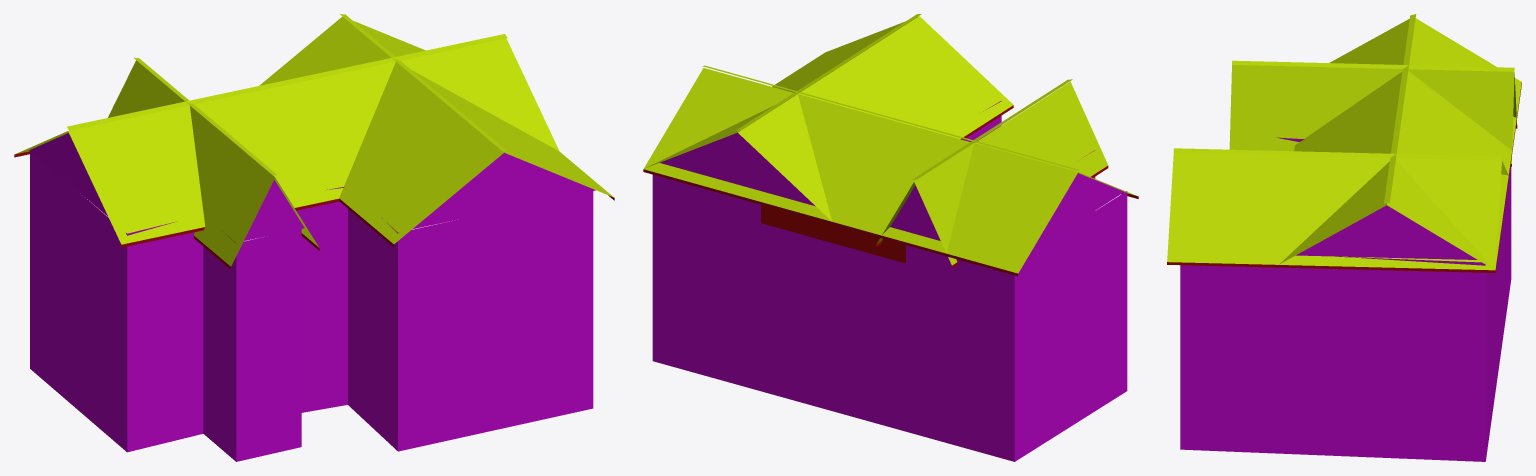
3 views of the same model, side by side, from view 1: azimuth 30°, elevation 25°; view 2: azimuth 150°, elevation 25°; view 3: azimuth 270°, elevation 25° (orthographic). The views are drawn at different scales.
Visible parts, largest first — view 1: sc_97; view 2: sc_97; view 3: sc_97.
Part boxes in pixels (x1,y1,x2,y2): sc_97: (14,14,614,461); sc_97: (643,14,1138,461); sc_97: (1167,14,1521,461).
Size of the model in its own units: 18.3 by 11.39 by 14.14.
